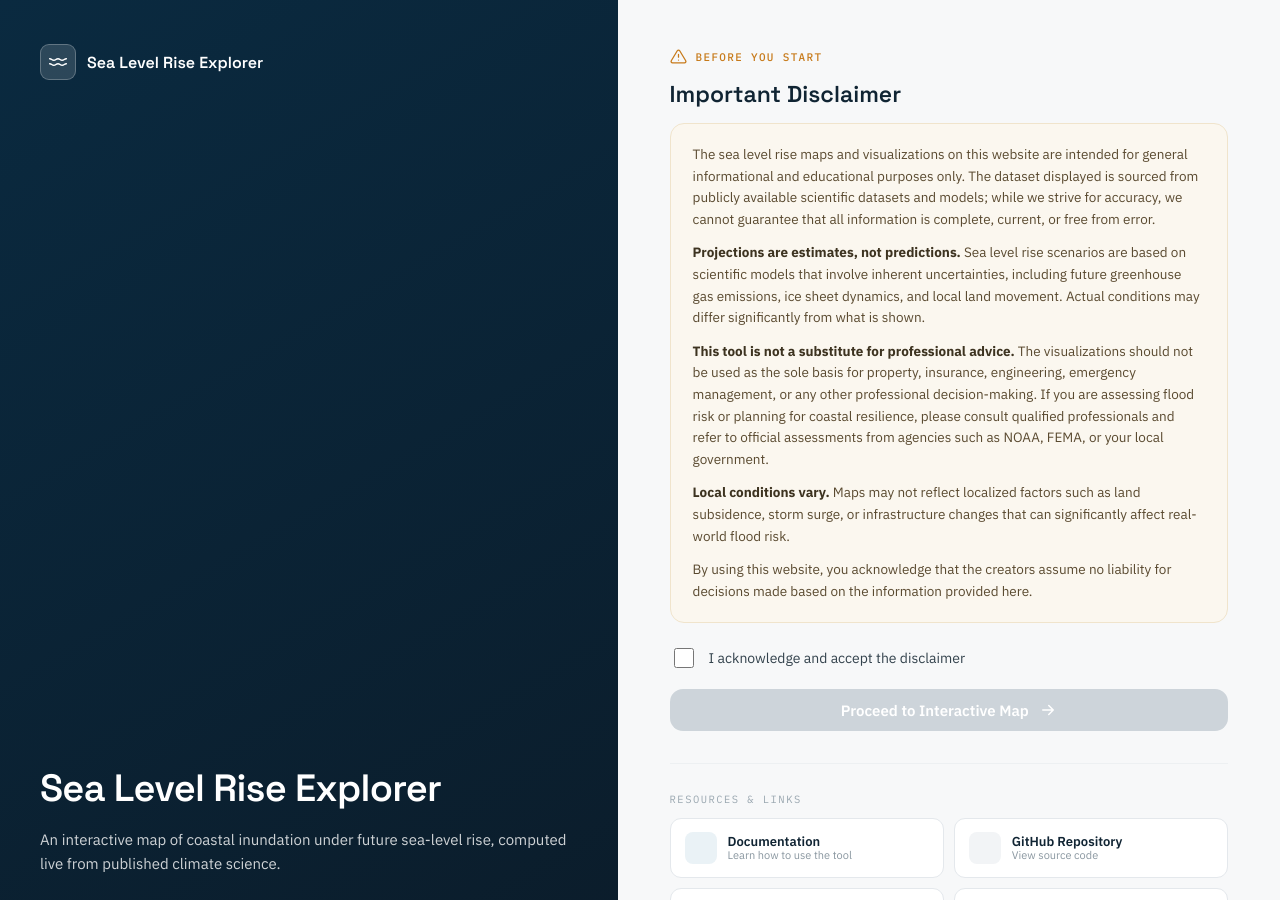
Scenario: App › shows connectivity and water mask controls under Advanced
Click the checkbox labelled "I acknowledge and accept the disclaimer" at (684, 658), box left=674, top=648, right=694, bottom=668
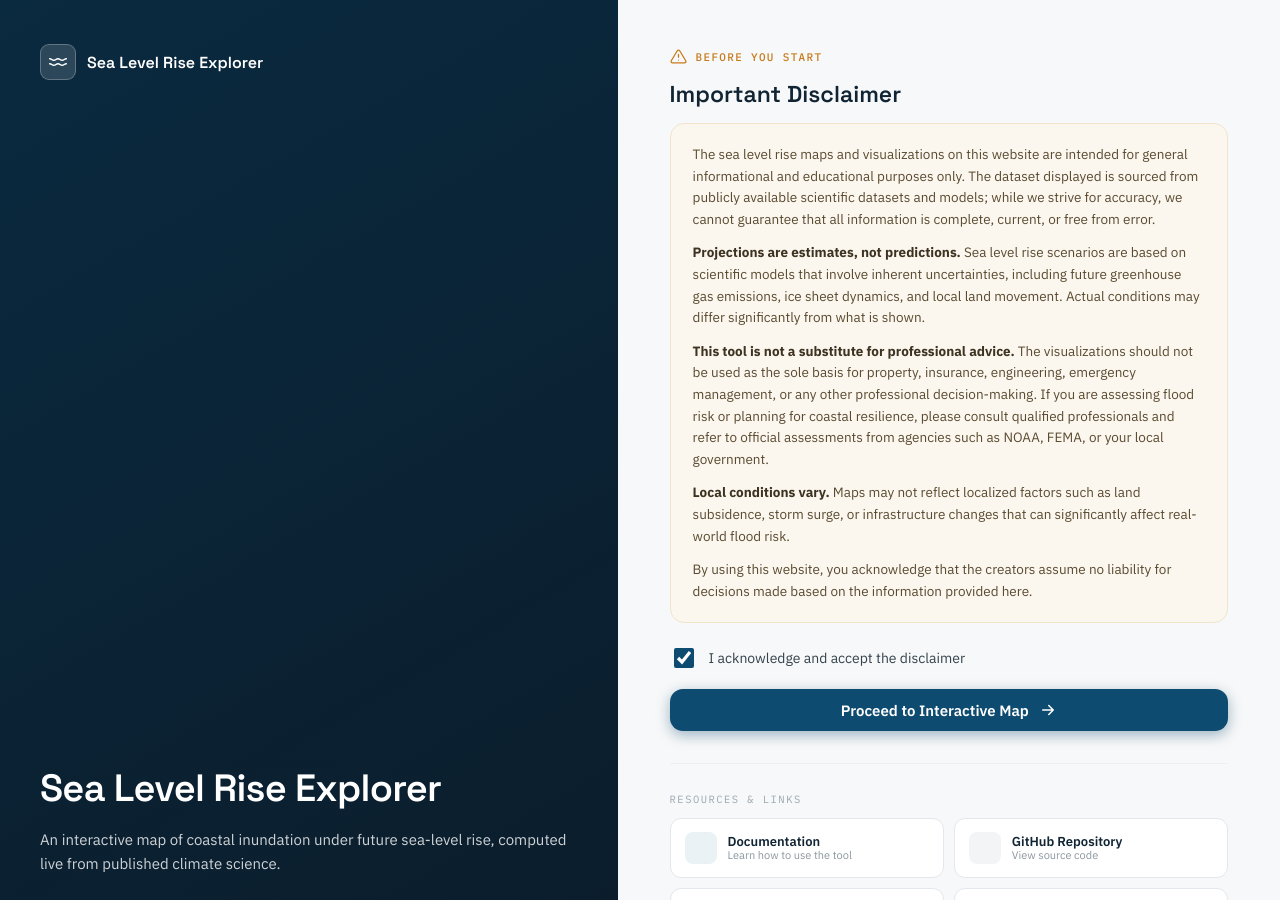
Click the button "Proceed to Interactive Map" at (949, 710), box left=670, top=689, right=1228, bottom=731
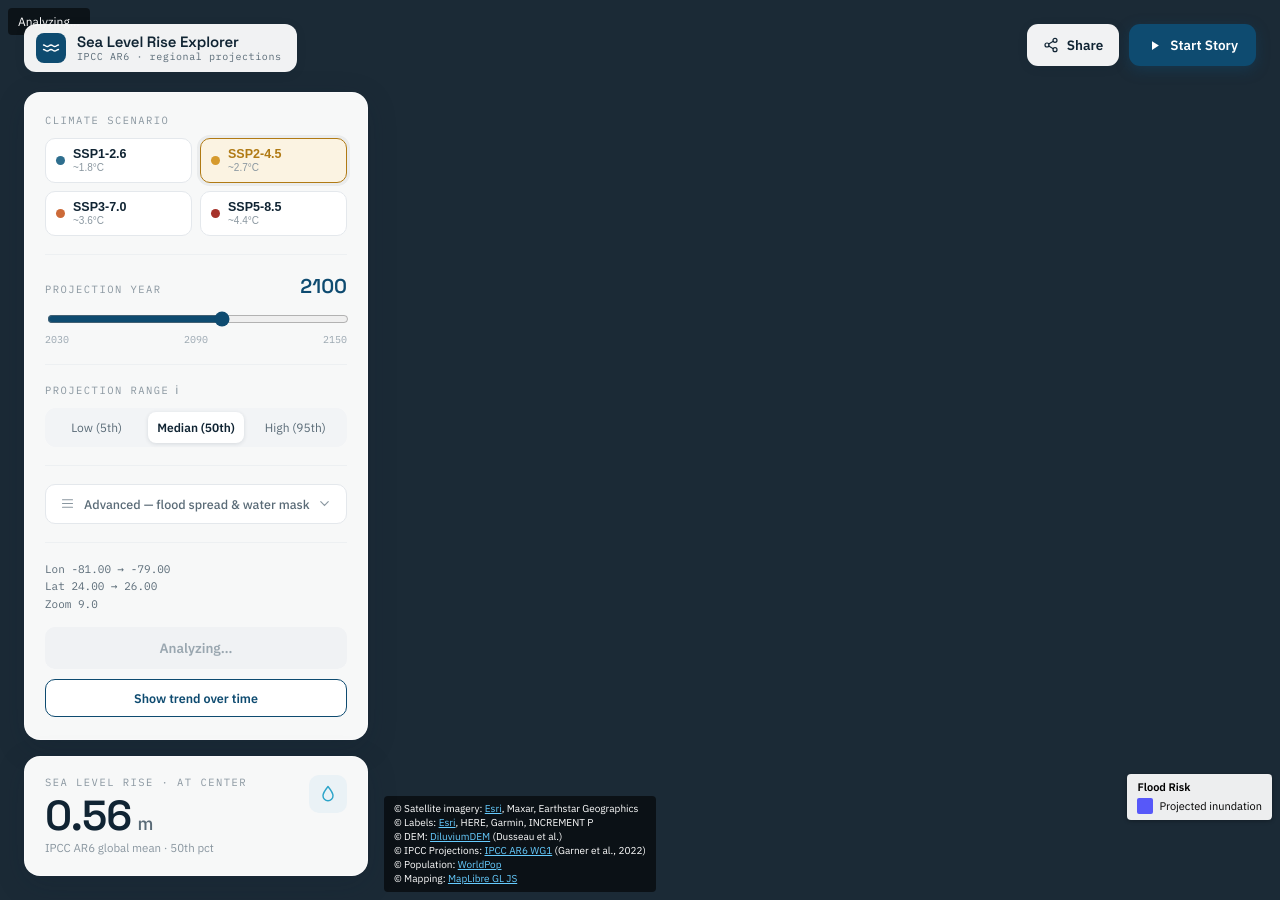
Click the button "Advanced — flood spread & water mask" at (196, 504), box left=45, top=484, right=347, bottom=524
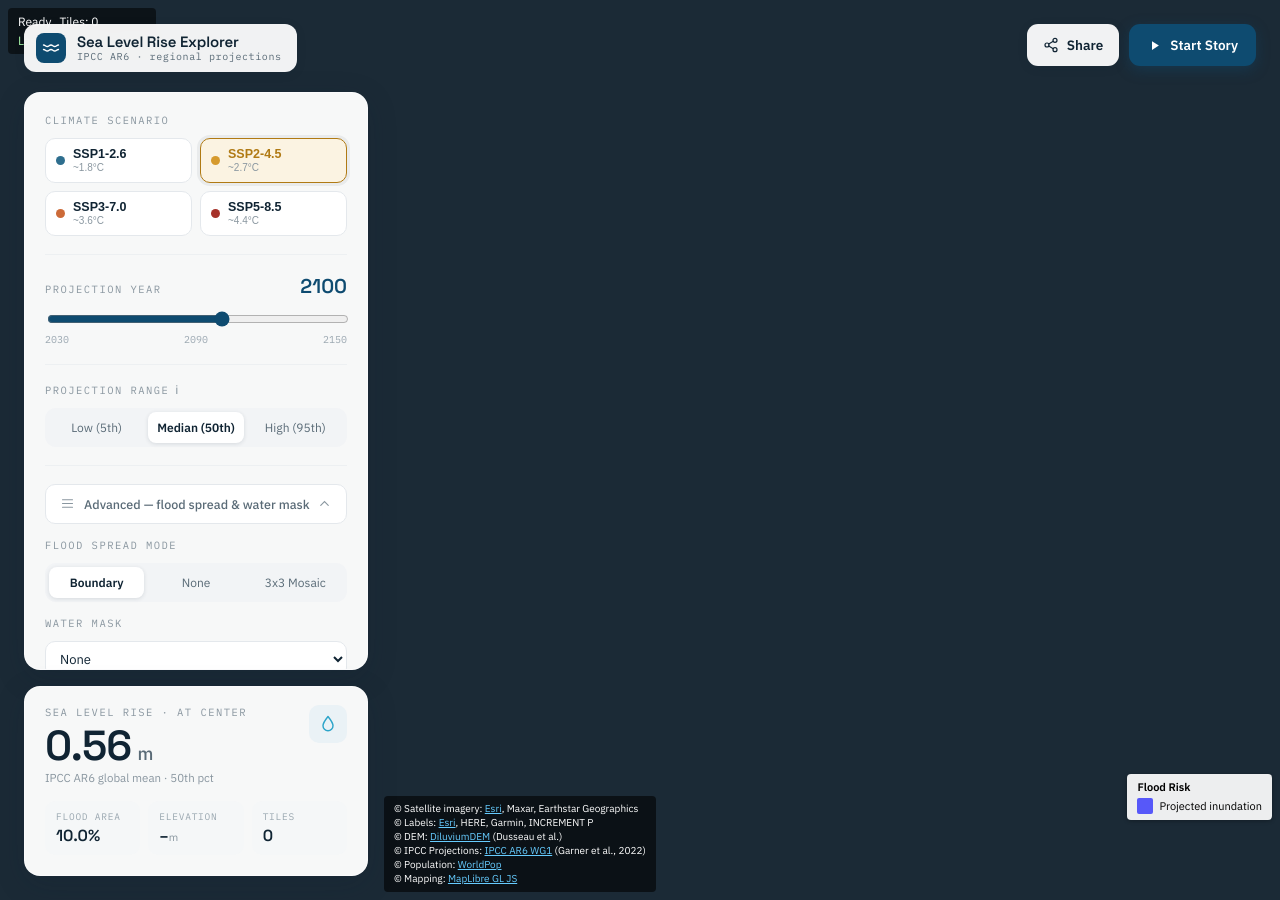
Now the text "Flood Spread Mode" is shown, box left=45, top=538, right=177, bottom=552
Now the text "Water Mask" is shown, box left=45, top=616, right=123, bottom=630
Now the button "3x3 Mosaic" is shown, box left=248, top=566, right=343, bottom=598
